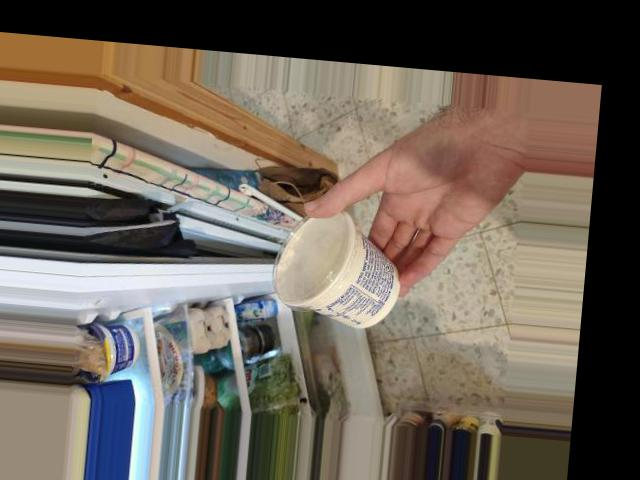cotage: (270, 219, 400, 326)
